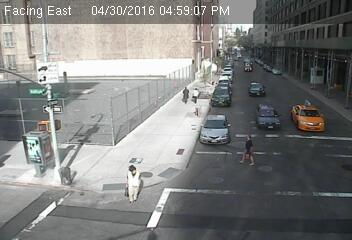neg: (282, 157, 313, 198), (11, 186, 42, 227), (297, 63, 327, 104), (113, 49, 140, 85), (85, 95, 109, 127), (31, 99, 55, 130), (207, 177, 231, 208), (162, 145, 185, 175), (22, 140, 44, 169), (243, 58, 264, 88), (38, 51, 59, 80), (133, 100, 152, 126)
pos: (116, 158, 147, 200), (238, 133, 265, 170), (175, 82, 190, 102), (191, 85, 204, 103)
